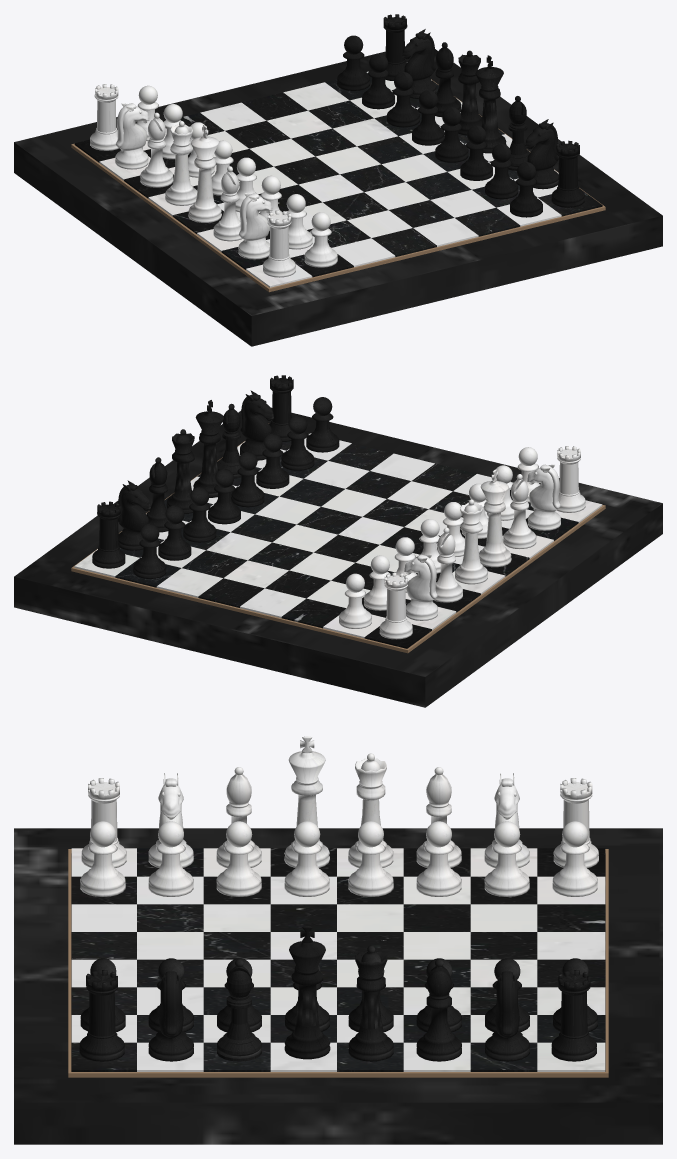
Rendered from modelChess-transformed.glb.
3 renders of one model, top to bottom at view 1: azimuth 30°, elevation 25°; view 2: azimuth 150°, elevation 25°; view 3: azimuth 270°, elevation 25°, orthographic. The views are drawn at different scales.
Visible parts, largest first — view 1: Chess Board_08 - Default_0, B_Pawn_8_01 - Default_0, Chess Board_02 - Default_0, Chess Board_07 - Default_0, W_Bishop_2_02 - Default_0, Chess Board_03 - Default_0; view 2: Chess Board_08 - Default_0, B_Pawn_8_01 - Default_0, Chess Board_07 - Default_0, Chess Board_02 - Default_0, W_Bishop_2_02 - Default_0, Chess Board_03 - Default_0; view 3: Chess Board_08 - Default_0, Chess Board_02 - Default_0, Chess Board_07 - Default_0, W_Bishop_2_02 - Default_0, B_Pawn_8_01 - Default_0, Chess Board_03 - Default_0.
Part boxes in pixels (<box>): Chess Board_08 - Default_0: <box>14,49,662,346</box>; B_Pawn_8_01 - Default_0: <box>337,14,584,217</box>; Chess Board_02 - Default_0: <box>74,72,602,277</box>; Chess Board_07 - Default_0: <box>99,62,561,287</box>; W_Bishop_2_02 - Default_0: <box>90,84,337,277</box>; Chess Board_03 - Default_0: <box>71,79,605,292</box>; Chess Board_08 - Default_0: <box>14,407,662,707</box>; B_Pawn_8_01 - Default_0: <box>92,375,339,578</box>; Chess Board_07 - Default_0: <box>74,433,602,638</box>; Chess Board_02 - Default_0: <box>115,423,578,648</box>; W_Bishop_2_02 - Default_0: <box>339,446,585,639</box>; Chess Board_03 - Default_0: <box>71,423,605,653</box>; Chess Board_08 - Default_0: <box>14,828,662,1144</box>; Chess Board_02 - Default_0: <box>71,848,605,1071</box>; Chess Board_07 - Default_0: <box>71,848,605,1071</box>; W_Bishop_2_02 - Default_0: <box>80,736,598,896</box>; B_Pawn_8_01 - Default_0: <box>79,926,597,1061</box>; Chess Board_03 - Default_0: <box>68,849,608,1077</box>.
Size of the model in its own units: 2.05 by 0.6076 by 2.05.
6 materials, 5 textured.
